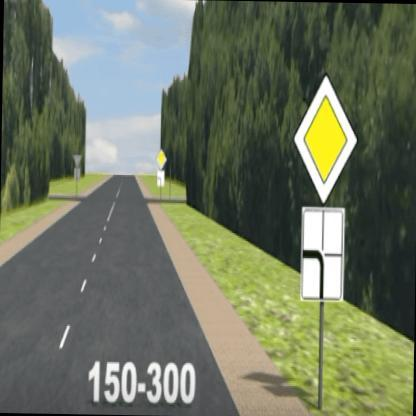road_sign: (294, 75, 357, 205), (300, 206, 346, 302), (155, 150, 167, 169), (157, 169, 165, 188)
